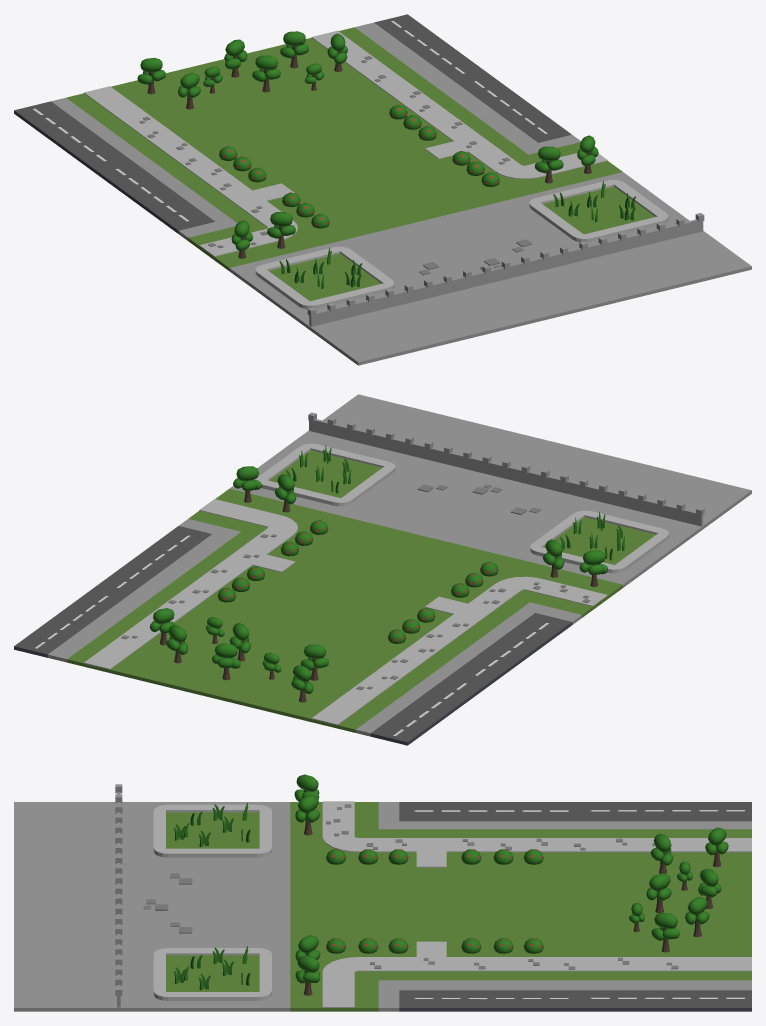
File: Cinema_Map_OutDoor.fbx
3 renders of one model, top to bottom at view 1: azimuth 30°, elevation 25°; view 2: azimuth 150°, elevation 25°; view 3: azimuth 270°, elevation 25°, orthographic. The views are drawn at different scales.
Parts seen in each view (by area): view 1: Cube; view 2: Cube; view 3: Cube.
Part boxes in pixels (box(x1,y1,x2,y2)): Cube: box(14, 14, 751, 365); Cube: box(14, 394, 751, 745); Cube: box(14, 774, 751, 1011).
Bounding box in the file's own units: 110 × 10.14 × 167.
